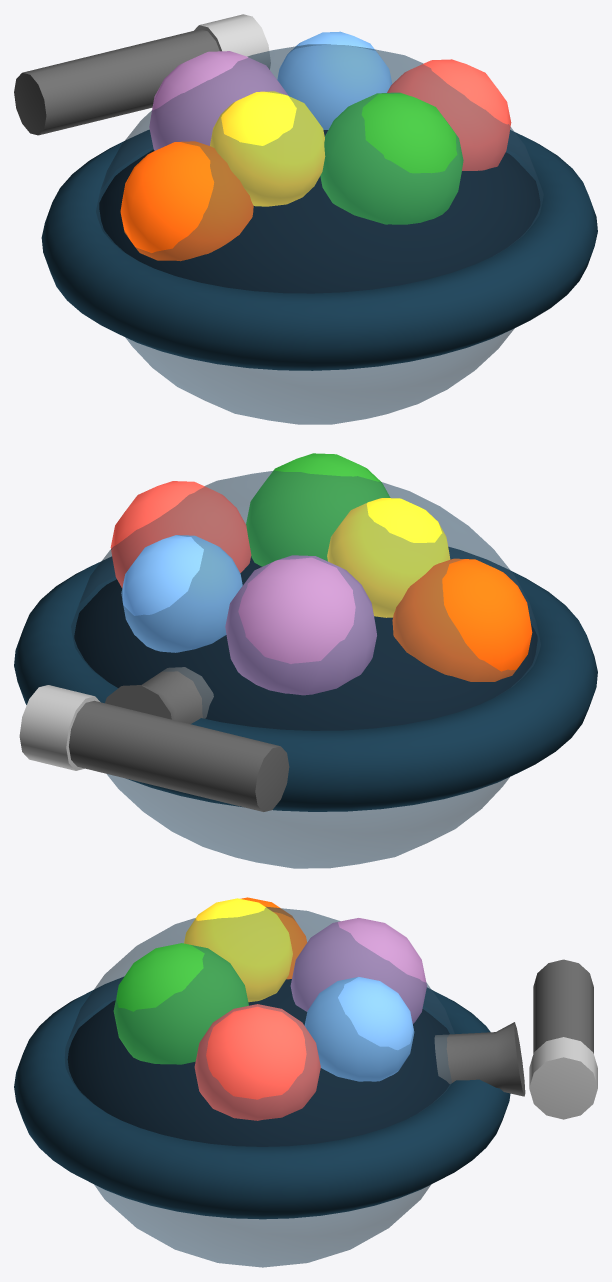
The model's file is sk_bubblegum.glb.
3 views of the same model, one above another, from view 1: azimuth 30°, elevation 25°; view 2: azimuth 150°, elevation 25°; view 3: azimuth 270°, elevation 25° (orthographic). The views are drawn at different scales.
Parts seen in each view (by area): view 1: glass, rim, bowl, ball2, ball1, bar, ball5, ball0, ball3, ball4, bar_cap; view 2: glass, rim, bowl, ball0, bar, ball1, ball4, ball2, ball5, ball3, bar_cap, stem; view 3: glass, rim, bowl, ball3, ball2, ball4, ball0, ball5, bar, bar_cap, stem, ball1.
Boxes of the visible parts, bbox=[...] form: glass: bbox=[96, 44, 543, 424]; rim: bbox=[41, 130, 597, 370]; bowl: bbox=[99, 130, 540, 293]; ball2: bbox=[320, 92, 463, 224]; ball1: bbox=[120, 141, 253, 260]; bar: bbox=[14, 29, 219, 135]; ball5: bbox=[210, 91, 325, 206]; ball0: bbox=[149, 51, 288, 150]; ball3: bbox=[387, 59, 511, 170]; ball4: bbox=[277, 31, 391, 129]; bar_cap: bbox=[194, 14, 270, 69]; glass: bbox=[71, 470, 540, 868]; rim: bbox=[14, 547, 597, 811]; bowl: bbox=[74, 556, 537, 730]; ball0: bbox=[225, 555, 376, 695]; bar: bbox=[69, 700, 289, 811]; ball1: bbox=[392, 558, 532, 681]; ball4: bbox=[121, 535, 242, 652]; ball2: bbox=[246, 453, 390, 566]; ball5: bbox=[327, 498, 449, 617]; ball3: bbox=[110, 481, 251, 587]; bar_cap: bbox=[19, 685, 100, 770]; stem: bbox=[105, 667, 213, 723]; glass: bbox=[65, 906, 454, 1267]; rim: bbox=[14, 977, 510, 1219]; bowl: bbox=[67, 979, 449, 1146]; ball3: bbox=[194, 1004, 320, 1120]; ball2: bbox=[113, 943, 248, 1064]; ball4: bbox=[304, 977, 414, 1081]; ball0: bbox=[290, 918, 426, 1023]; ball5: bbox=[184, 898, 292, 1001]; bar: bbox=[533, 959, 593, 1053]; bar_cap: bbox=[529, 1037, 597, 1119]; stem: bbox=[434, 1022, 525, 1096]; ball1: bbox=[240, 897, 306, 979].
Bounding box in the file's own units: 10.44 × 6.8 × 11.55.
